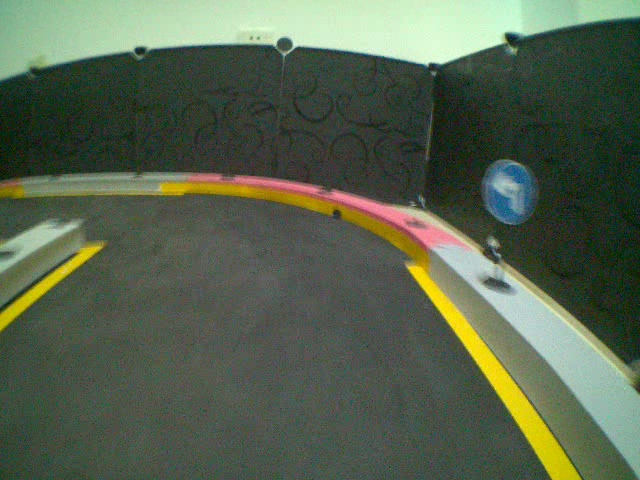turn: (478, 155, 541, 225)
